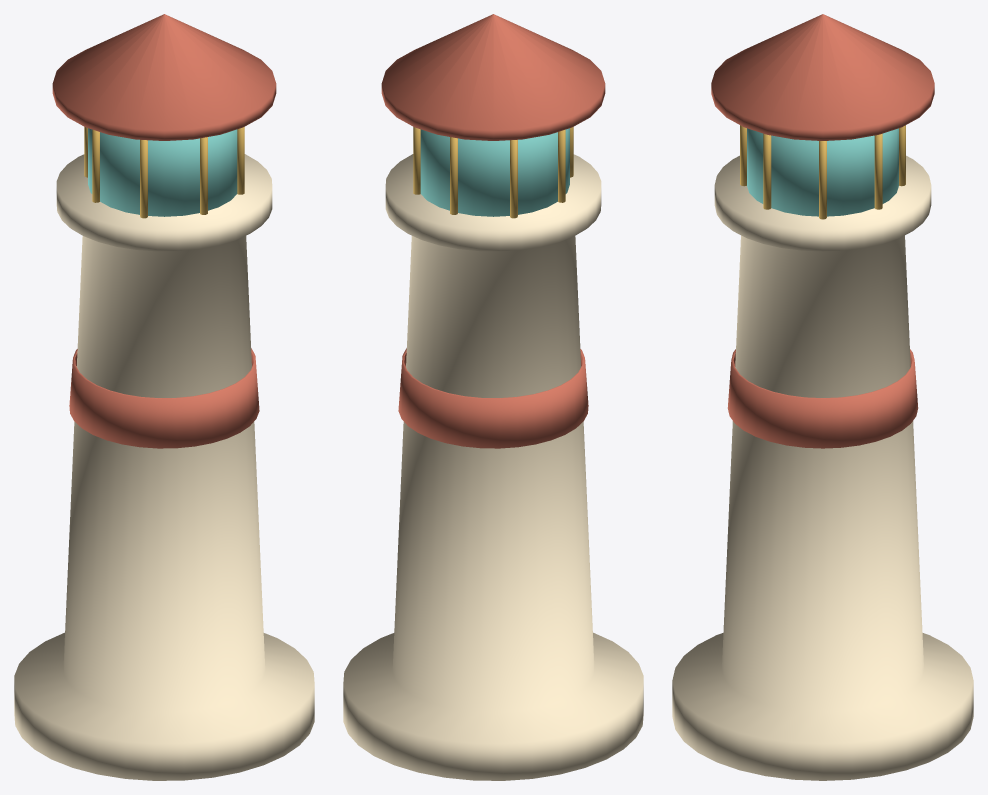
File: route_lighthouse.glb
3 views of the same model, side by side, from view 1: azimuth 30°, elevation 25°; view 2: azimuth 150°, elevation 25°; view 3: azimuth 270°, elevation 25° (orthographic).
Visible parts, largest first — view 1: route_lighthouse_crafted_mesh; view 2: route_lighthouse_crafted_mesh; view 3: route_lighthouse_crafted_mesh.
Boxes of the visible parts, x1=… form: route_lighthouse_crafted_mesh: x1=14, y1=14, x2=314, y2=780; route_lighthouse_crafted_mesh: x1=343, y1=14, x2=643, y2=780; route_lighthouse_crafted_mesh: x1=672, y1=14, x2=973, y2=780.
Bounding box in the file's own units: 2.56 × 6.6 × 2.56.
